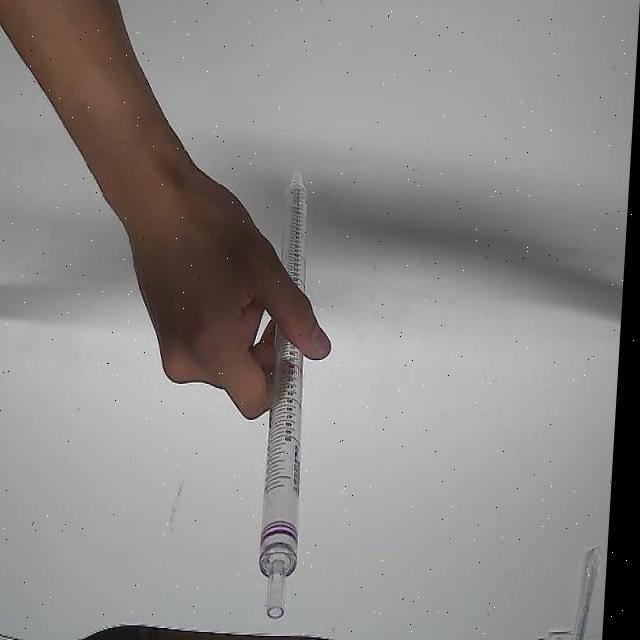Serelogical Pipet 50 mL: (257, 167, 333, 623)
